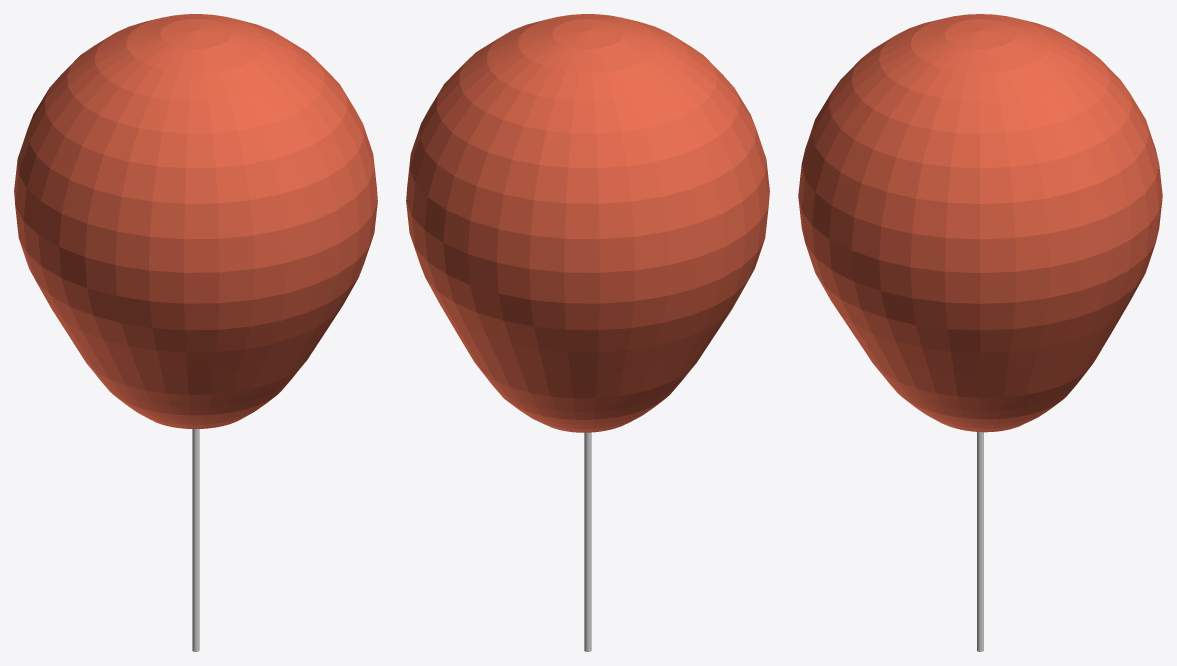
The model's file is red_balloon.glb.
3 renders of one model, left to right at view 1: azimuth 30°, elevation 25°; view 2: azimuth 150°, elevation 25°; view 3: azimuth 270°, elevation 25°, orthographic.
Parts seen in each view (by area): view 1: Sphere, Cylinder; view 2: Sphere, Cylinder; view 3: Sphere, Cylinder.
Part boxes in pixels (x1=…): Sphere: x1=14, y1=14, x2=377, y2=429; Cylinder: x1=192, y1=429, x2=199, y2=651; Sphere: x1=406, y1=14, x2=769, y2=432; Cylinder: x1=584, y1=432, x2=591, y2=651; Sphere: x1=798, y1=14, x2=1162, y2=432; Cylinder: x1=977, y1=432, x2=983, y2=651.
Bounding box in the file's own units: 1.8 × 3.37 × 1.8.
